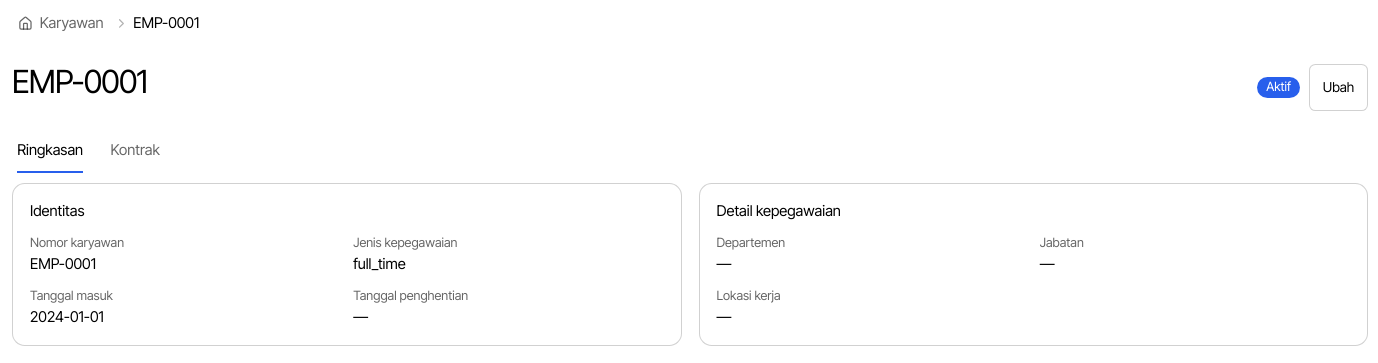
Test: EmployeeDetail branches › shows contracts error with retry
The image size is (1378, 363).
Expected: the heading "EMP-0001" is shown, x1=12 y1=64 x2=147 y2=100
Step 1. Click the tab "Kontrak" → [135, 151], box x1=110 y1=128 x2=161 y2=174
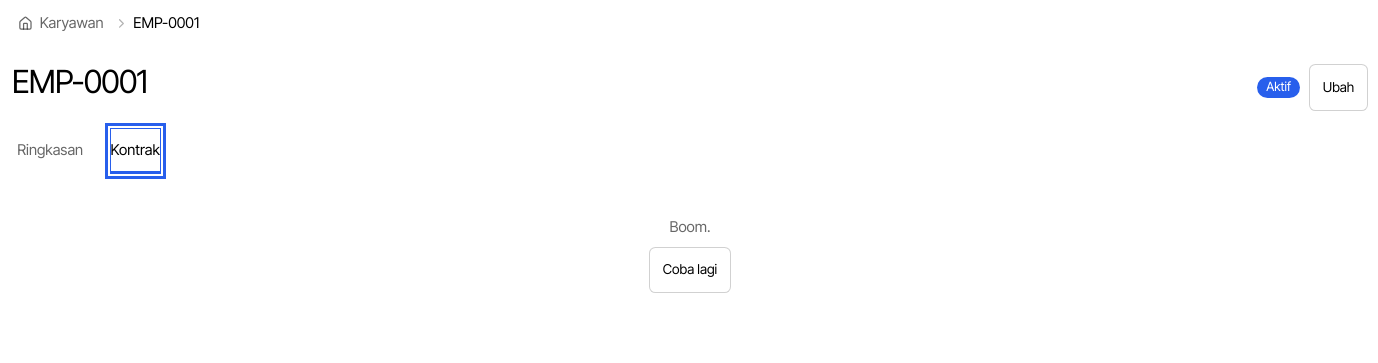
Expected: the button "Coba lagi" is shown, x1=649 y1=246 x2=731 y2=293
